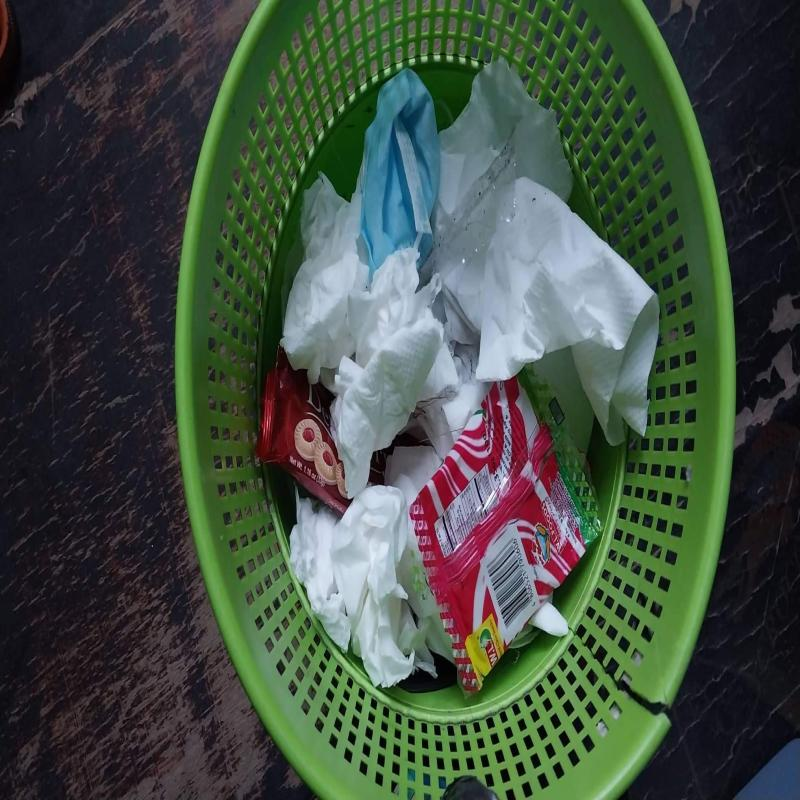food wrapper: (409, 368, 601, 695), (256, 346, 353, 515)
paper: (475, 177, 660, 447), (330, 485, 437, 689), (280, 171, 370, 385), (330, 328, 442, 499), (347, 248, 459, 401), (289, 485, 351, 651)
